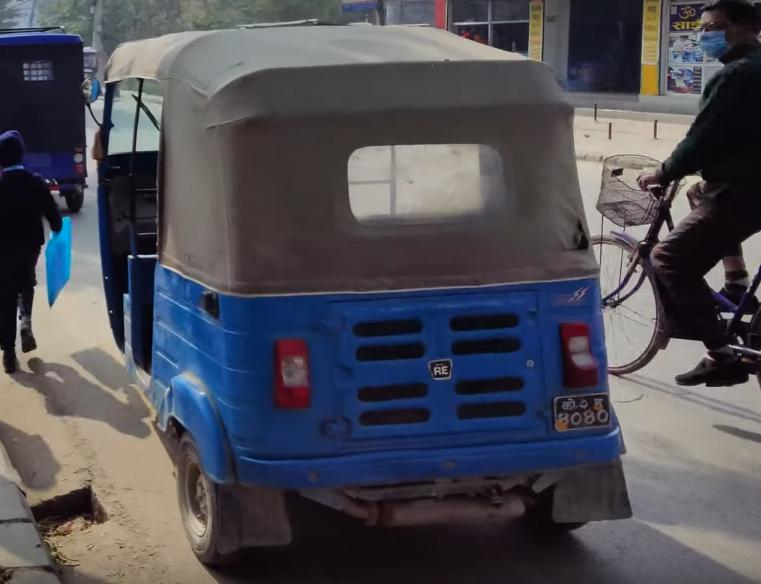auto_rickshaw: (76, 20, 633, 576)
